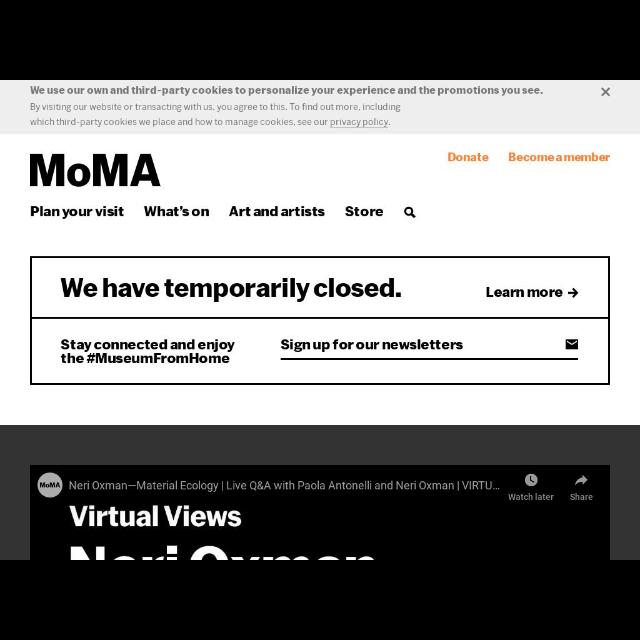icon: (38, 472, 62, 498), (524, 474, 538, 486), (574, 474, 588, 486), (404, 206, 416, 218), (566, 339, 578, 349), (568, 288, 578, 298), (602, 86, 610, 95)
text: (29, 103, 400, 127), (60, 276, 400, 302), (30, 86, 542, 96), (70, 482, 500, 492), (30, 154, 160, 186), (62, 339, 235, 363), (68, 505, 242, 527), (282, 340, 462, 352), (30, 206, 124, 218), (230, 205, 324, 217), (486, 286, 562, 298), (509, 153, 611, 161), (144, 206, 208, 217), (448, 152, 488, 162), (346, 206, 382, 217), (508, 494, 554, 501), (570, 493, 592, 501)
